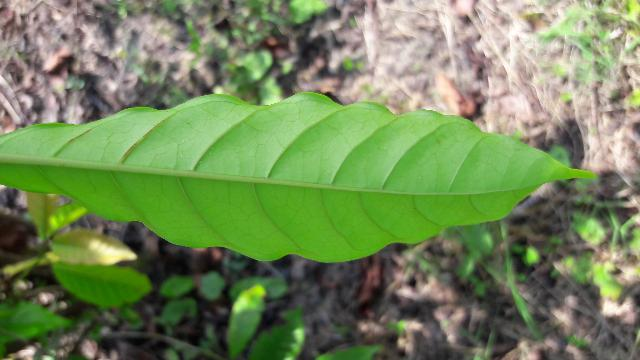healthy: (5, 101, 564, 255)
